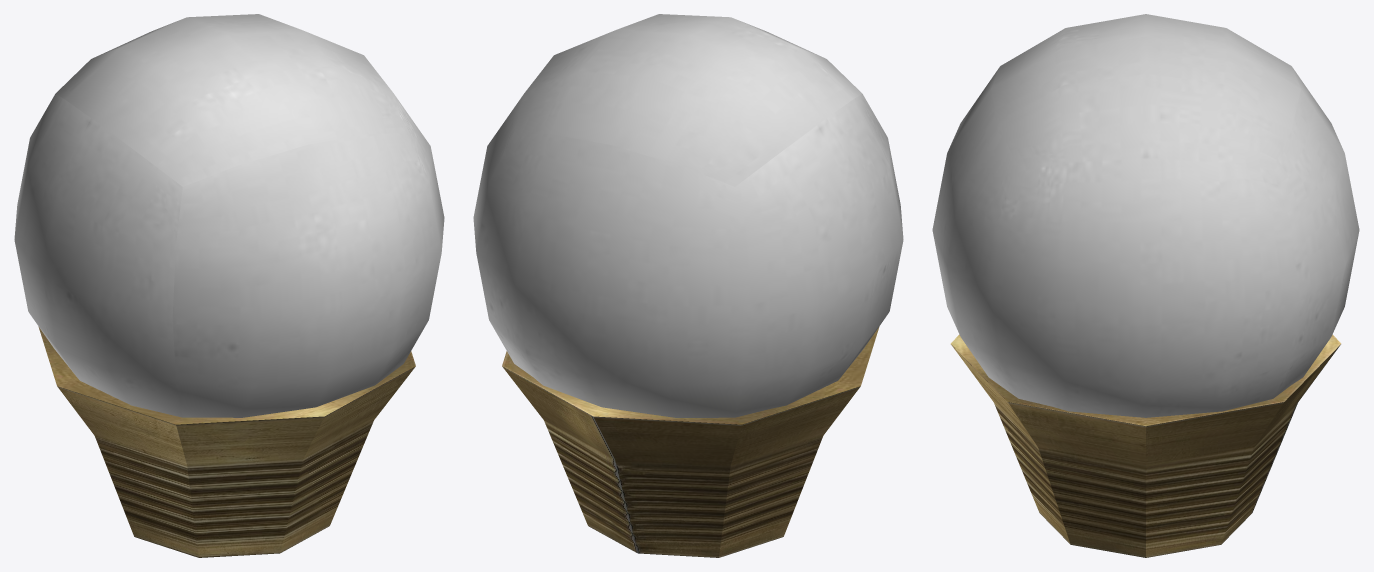
The model's file is Bulb.fbx.
3 views of the same model, side by side, from view 1: azimuth 30°, elevation 25°; view 2: azimuth 150°, elevation 25°; view 3: azimuth 270°, elevation 25° (orthographic).
Visible parts, largest first — view 1: Bulp; view 2: Bulp; view 3: Bulp.
Boxes of the visible parts, x1,y1,x2,y2 form: Bulp: (14,14,444,557); Bulp: (473,14,903,557); Bulp: (932,14,1359,557).
Bounding box in the file's own units: 52.3 × 64.55 × 52.3.
